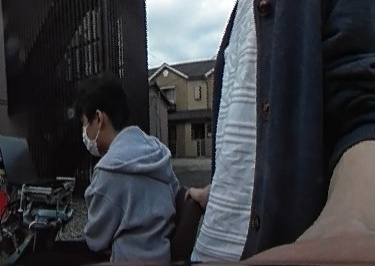person: (29, 79, 186, 266)
